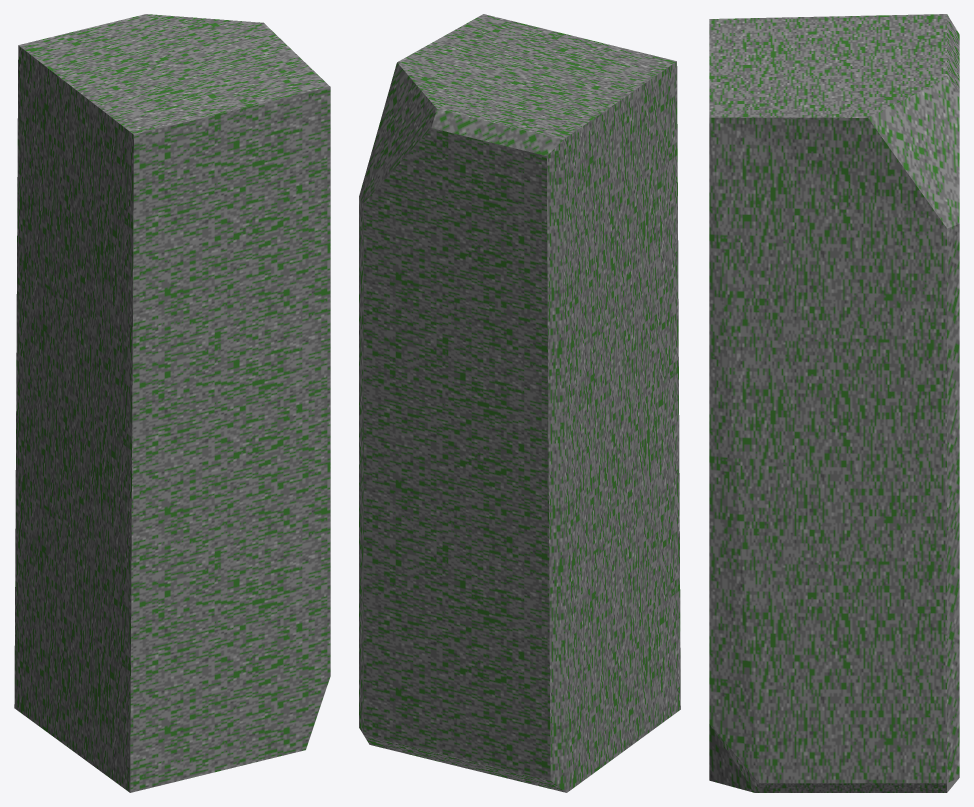
The model's file is stonepillar1.obj.
3 views of the same model, side by side, from view 1: azimuth 30°, elevation 25°; view 2: azimuth 150°, elevation 25°; view 3: azimuth 270°, elevation 25° (orthographic). The views are drawn at different scales.
Visible parts, largest first — view 1: Object.1; view 2: Object.1; view 3: Object.1.
Boxes of the visible parts, left/top/right/bottom form: Object.1: left=14, top=14, right=330, bottom=792; Object.1: left=359, top=14, right=680, bottom=792; Object.1: left=709, top=14, right=959, bottom=792.
Bounding box in the file's own units: 1 × 3 × 1.
